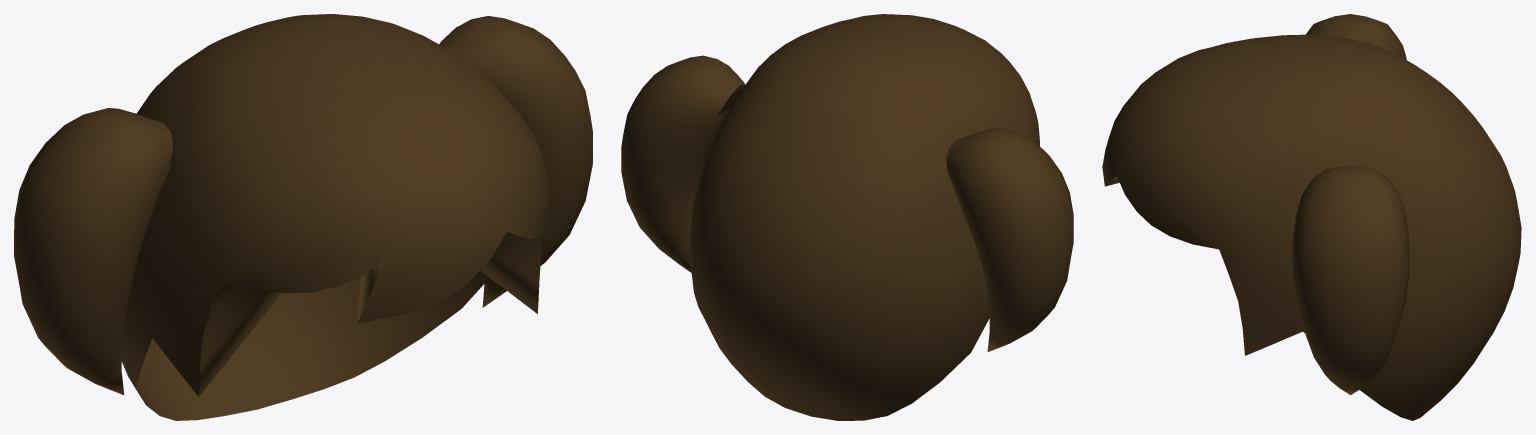
The model's file is hair_hair_058.gltf.
The picture shows the model from 3 angles, left to right: view 1: azimuth 30°, elevation 25°; view 2: azimuth 150°, elevation 25°; view 3: azimuth 270°, elevation 25°; orthographic projection. The views are drawn at different scales.
Visible parts, largest first — view 1: hair.058; view 2: hair.058; view 3: hair.058.
Boxes of the visible parts, bbox=[...] form: hair.058: bbox=[14, 14, 592, 420]; hair.058: bbox=[621, 14, 1073, 420]; hair.058: bbox=[1102, 14, 1521, 420].
Bounding box in the file's own units: 0.9769 × 0.7114 × 0.7819.
